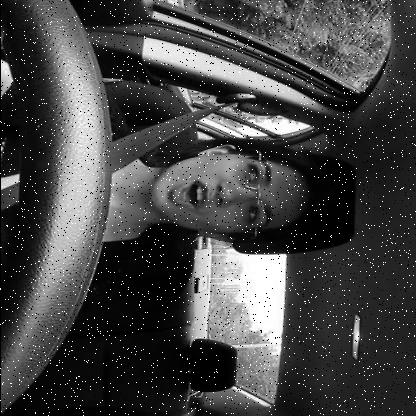seatbelt: (0, 86, 358, 266)
